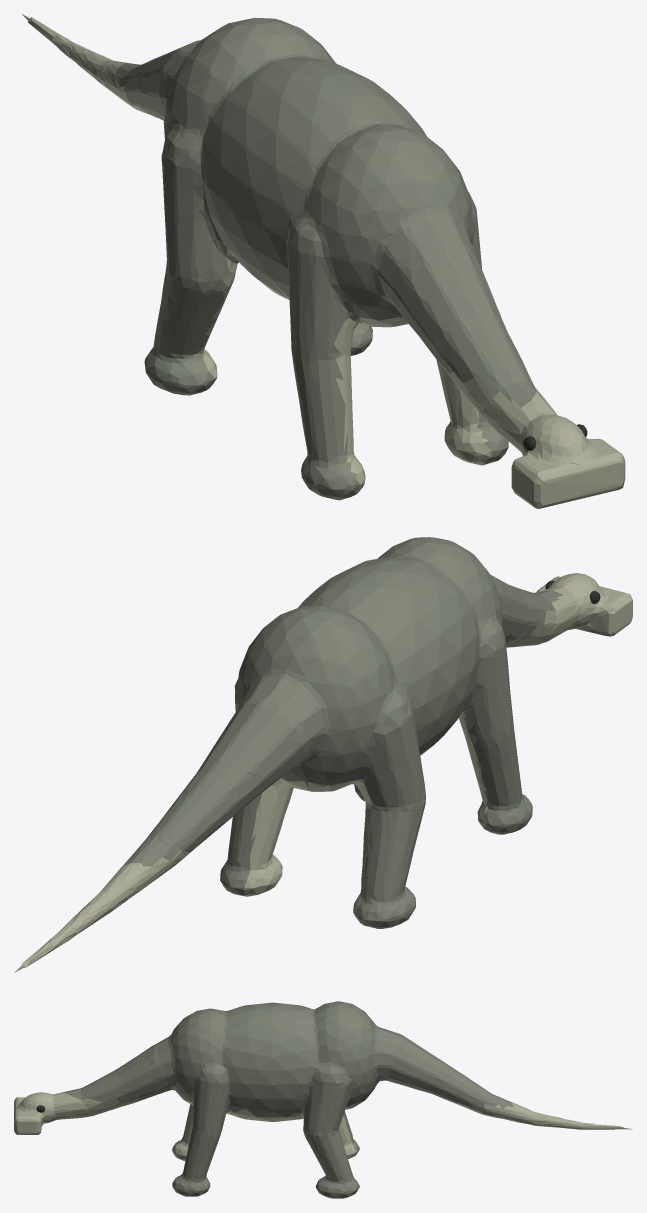
3 renders of one model, top to bottom at view 1: azimuth 30°, elevation 25°; view 2: azimuth 150°, elevation 25°; view 3: azimuth 270°, elevation 25°, orthographic. The views are drawn at different scales.
Visible parts, largest first — view 1: Nigersaurus continuous skin; view 2: Nigersaurus continuous skin; view 3: Nigersaurus continuous skin.
Part boxes in pixels (left/top/right/bottom): Nigersaurus continuous skin: left=22, top=14, right=625, bottom=508; Nigersaurus continuous skin: left=14, top=537, right=632, bottom=972; Nigersaurus continuous skin: left=14, top=1001, right=632, bottom=1198.
Bounding box in the file's own units: 1.79 × 2.77 × 8.97.
